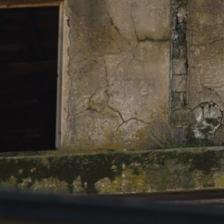Crack: (0, 6, 39, 143), (0, 40, 53, 106), (56, 52, 96, 120)
